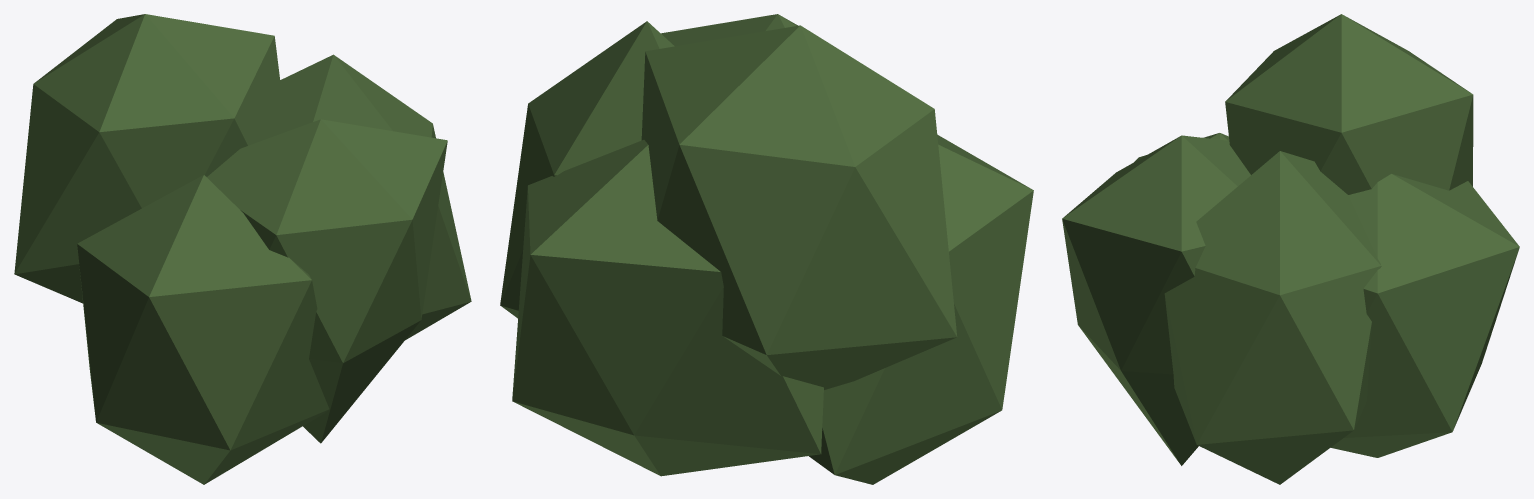
Rendered from potted_plant_leaves.fbx.
3 views of the same model, side by side, from view 1: azimuth 30°, elevation 25°; view 2: azimuth 150°, elevation 25°; view 3: azimuth 270°, elevation 25° (orthographic). The views are drawn at different scales.
Parts seen in each view (by area): view 1: potted_plant_leaves; view 2: potted_plant_leaves; view 3: potted_plant_leaves.
Part boxes in pixels (<box>): potted_plant_leaves: <box>14,14,471,484</box>; potted_plant_leaves: <box>500,14,1033,484</box>; potted_plant_leaves: <box>1062,14,1519,484</box>.
Size of the model in its own units: 221 by 233 by 222.
